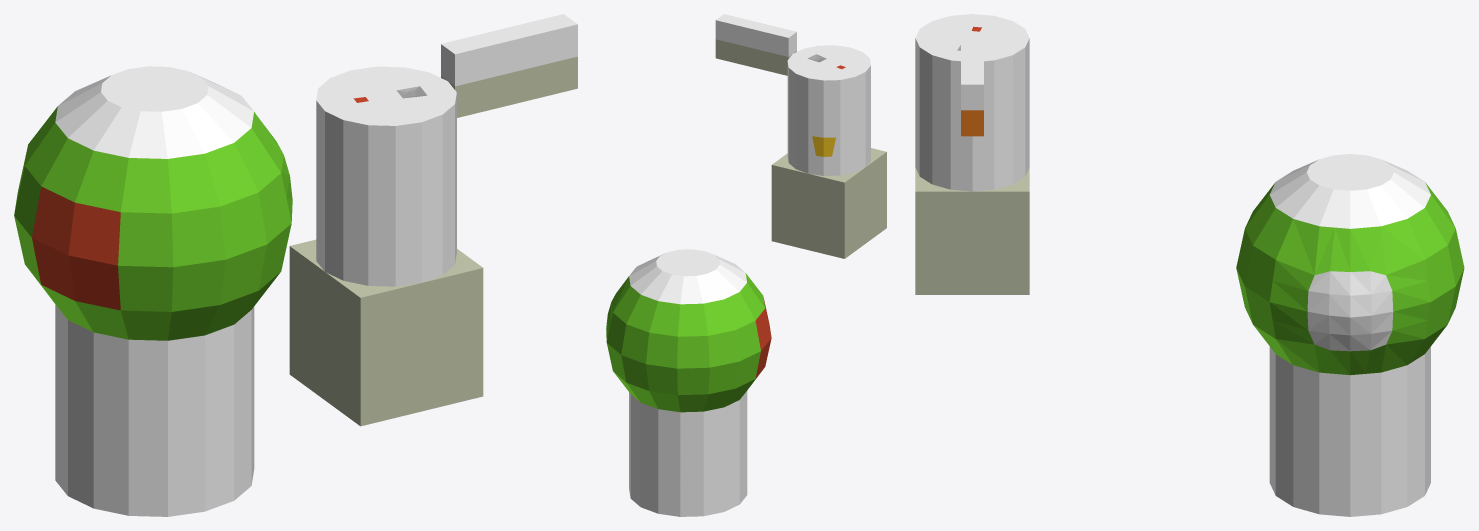
File: TopSphereForPlanar.obj
3 views of the same model, side by side, from view 1: azimuth 30°, elevation 25°; view 2: azimuth 150°, elevation 25°; view 3: azimuth 270°, elevation 25° (orthographic). The views are drawn at different scales.
Parts seen in each view (by area): view 1: TopSphere, TopSphereTube, MappedCylinder, Cubey0_25Tri, CubeToMap; view 2: TopSphere, TopSphereTube, MappedCylinder, Cubey0_25Tri, CubeToMap; view 3: TopSphere, TopSphereTube, MappedCylinder, Cubey0_25Tri, CubeToMap.
Part boxes in pixels (box(x1,y1,x2,y2)): TopSphere: box(14, 66, 292, 340); TopSphereTube: box(55, 305, 254, 516); MappedCylinder: box(316, 66, 456, 286); Cubey0_25Tri: box(289, 239, 483, 426); CubeToMap: box(441, 14, 577, 117); TopSphere: box(606, 249, 771, 412); TopSphereTube: box(629, 391, 747, 516); MappedCylinder: box(787, 45, 870, 175); Cubey0_25Tri: box(771, 148, 886, 258); CubeToMap: box(715, 14, 796, 75); TopSphere: box(1236, 154, 1464, 375); TopSphereTube: box(1269, 346, 1430, 516); MappedCylinder: box(915, 14, 1029, 191); Cubey0_25Tri: box(915, 167, 1029, 294); CubeToMap: box(961, 36, 983, 136).
Bounding box in the file's own units: 2.48 × 4.54 × 4.81.
